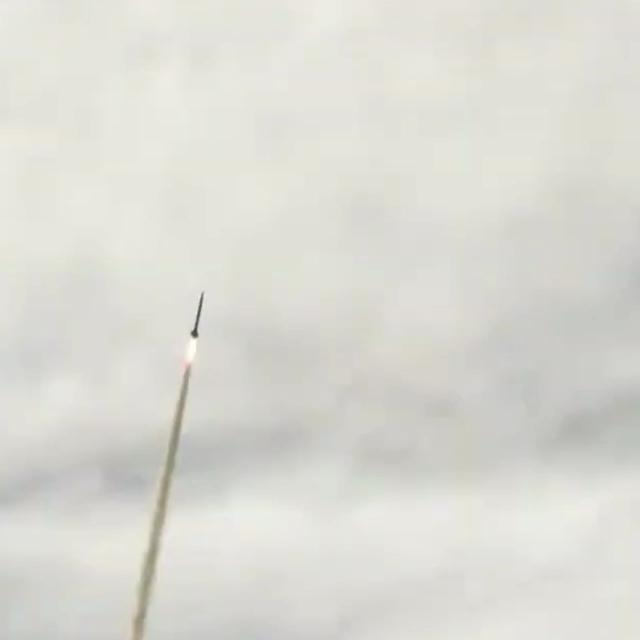rocket: (190, 291, 204, 338)
smoke_trail_with_rocket: (126, 292, 204, 640)
